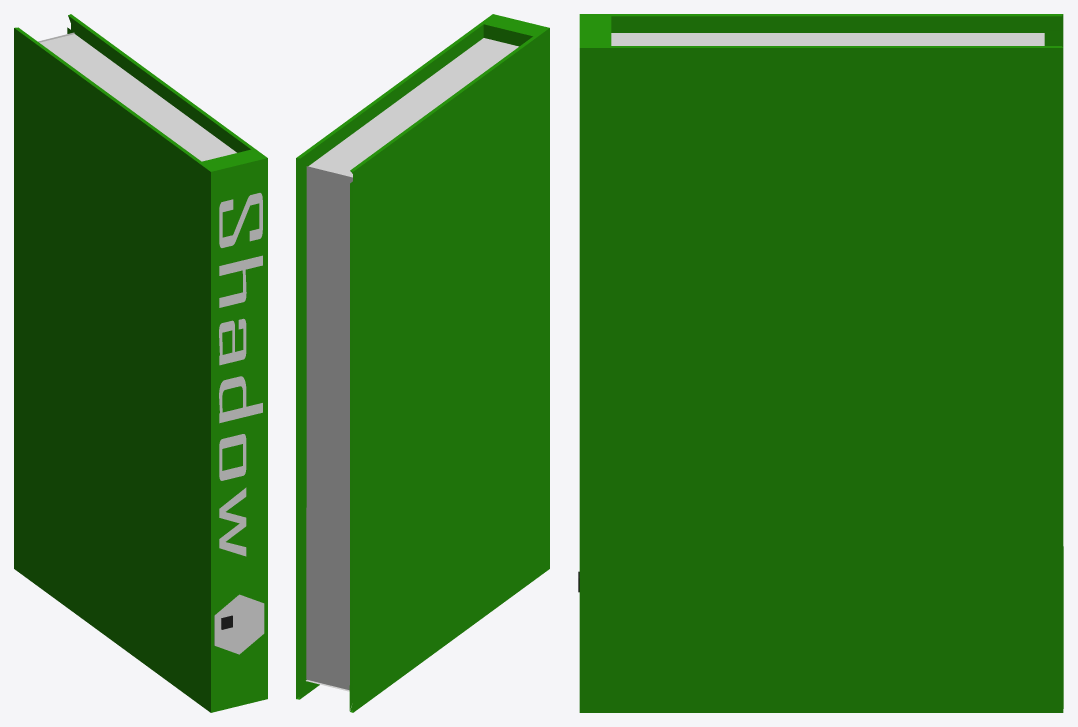
The model's file is Book_Shadow.fbx.
3 renders of one model, left to right at view 1: azimuth 30°, elevation 25°; view 2: azimuth 150°, elevation 25°; view 3: azimuth 270°, elevation 25°, orthographic. The views are drawn at different scales.
Visible parts, largest first — view 1: Book, Text, Cylinder; view 2: Book; view 3: Book.
Part boxes in pixels (<box>): Book: <box>14,14,267,712</box>; Text: <box>219,193,262,556</box>; Cylinder: <box>214,594,264,654</box>; Book: <box>296,14,549,712</box>; Book: <box>579,14,1063,712</box>.
Size of the model in its own units: 6.67 by 60.59 by 40.09.
